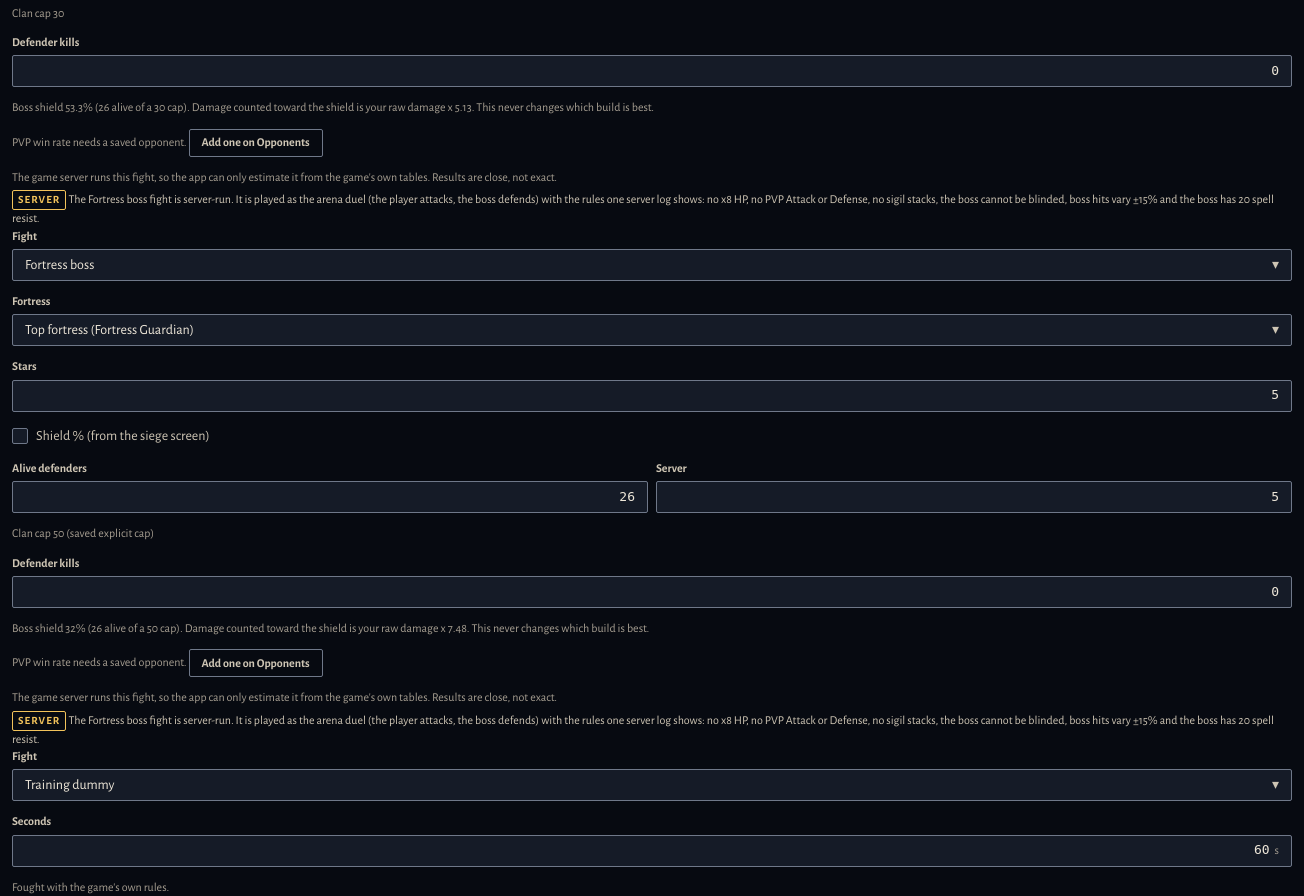
Test case: choosing the Celestial Trial starts solo on HARD with the catalogue tactics and the highest-chance goal
(page scrolled)
Select "Celestial Trial" in the 2nd dropdown labelled "Fight" at (638, 785), box [13,770,1264,800]
(page scrolled)
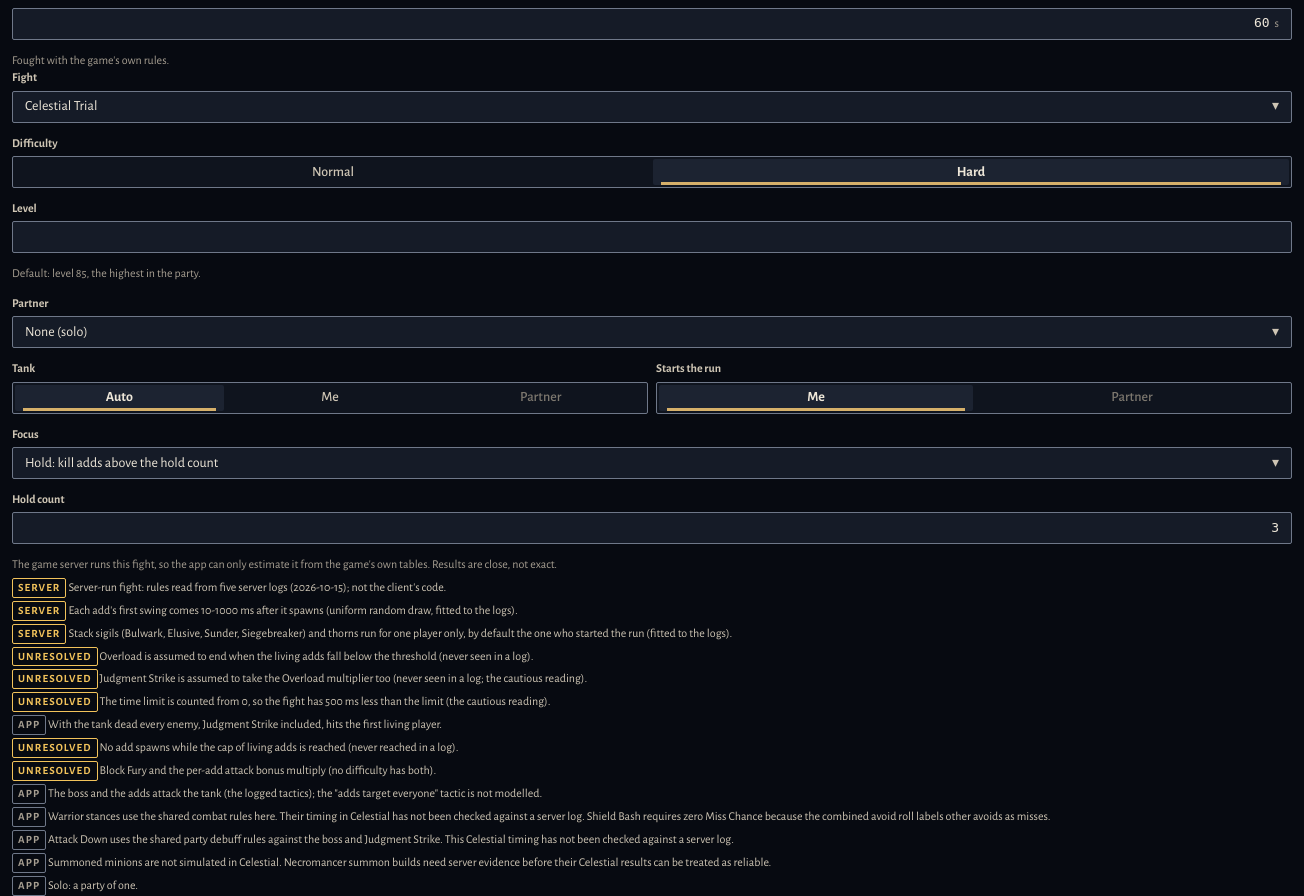
Check: the text with test id "celestial-level" shows "Default: level 85", box [12,267,201,279]
